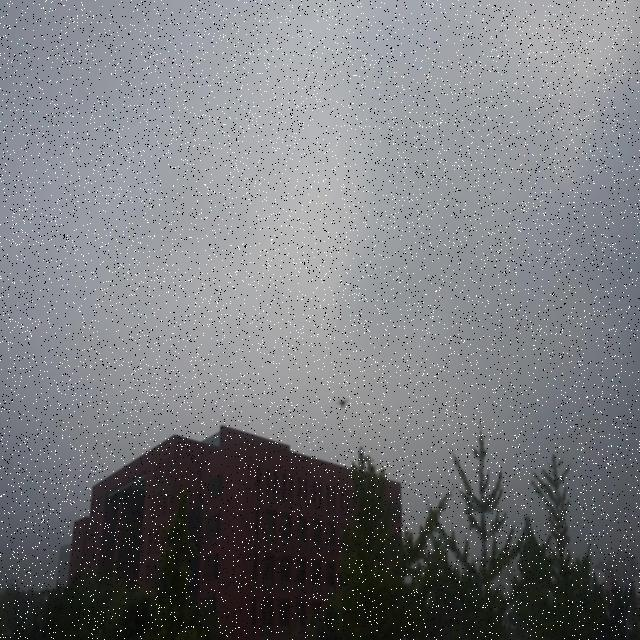UAV: (336, 399, 349, 409)
